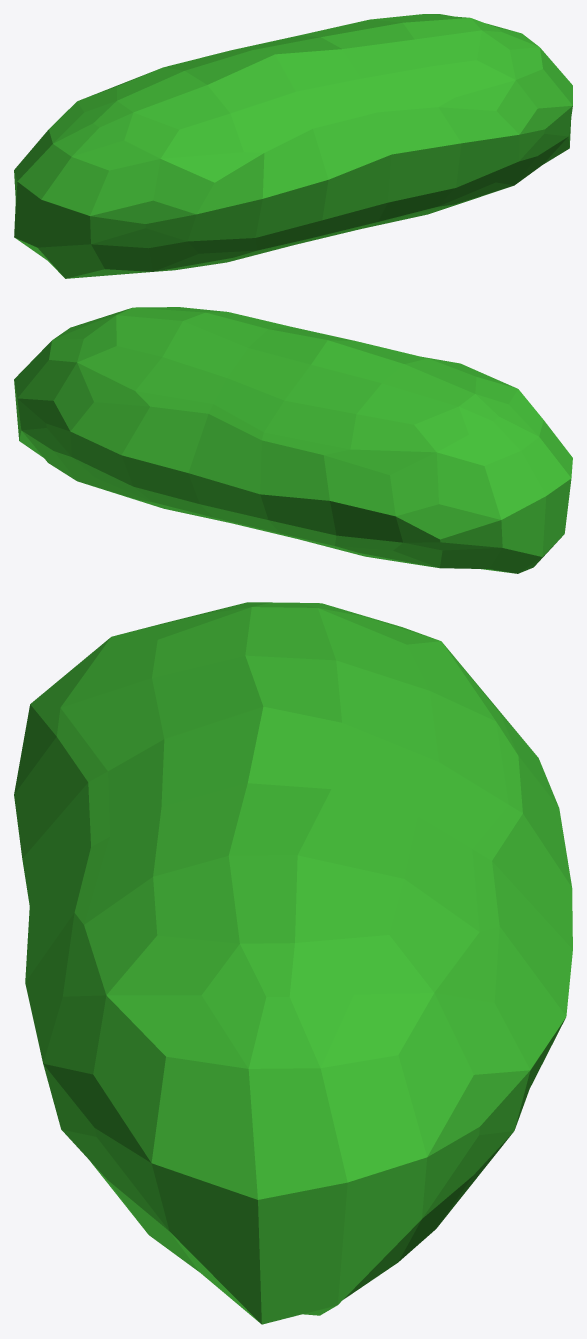
Rendered from Busch_4.fbx.
3 views of the same model, one above another, from view 1: azimuth 30°, elevation 25°; view 2: azimuth 150°, elevation 25°; view 3: azimuth 270°, elevation 25° (orthographic). The views are drawn at different scales.
Parts seen in each view (by area): view 1: Capsule; view 2: Capsule; view 3: Capsule.
Boxes of the visible parts, x1=… form: Capsule: x1=14, y1=14, x2=572, y2=278; Capsule: x1=14, y1=307, x2=572, y2=573; Capsule: x1=14, y1=602, x2=572, y2=1324.
Bounding box in the file's own units: 490 × 160 × 222.
